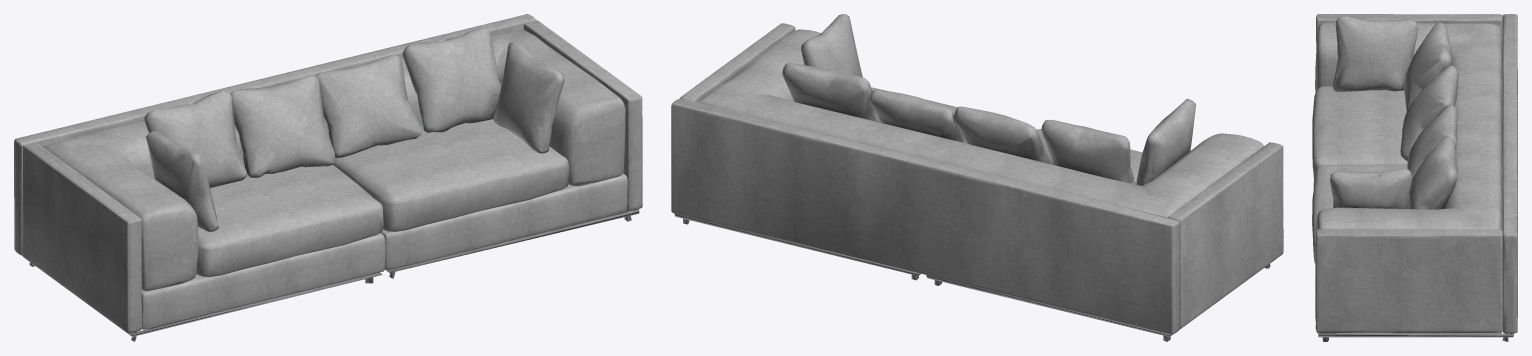
The model's file is sofa_modern.glb.
3 views of the same model, side by side, from view 1: azimuth 30°, elevation 25°; view 2: azimuth 150°, elevation 25°; view 3: azimuth 270°, elevation 25° (orthographic). The views are drawn at different scales.
Parts seen in each view (by area): view 1: defaultMaterial (×6); view 2: defaultMaterial (×5); view 3: defaultMaterial (×5).
Part boxes in pixels (bbox=[...]): defaultMaterial (×6): bbox=[14, 14, 642, 341]; defaultMaterial (×5): bbox=[671, 14, 1283, 341]; defaultMaterial (×5): bbox=[1312, 14, 1517, 341].
Size of the model in its own units: 2.2 by 0.6619 by 0.8622.
Materials: 6 (6 with a texture image).
